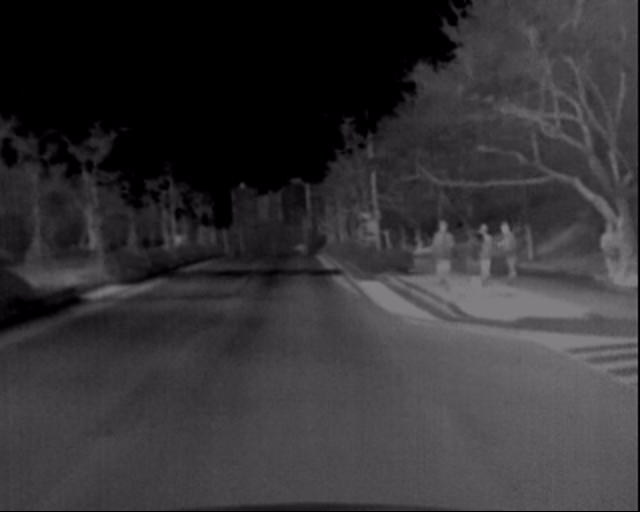person: (434, 216, 462, 302), (478, 228, 503, 305), (501, 218, 527, 287), (601, 225, 627, 293), (472, 221, 496, 292)
